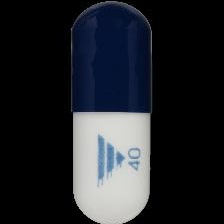66993-413: (0, 0, 224, 224)
